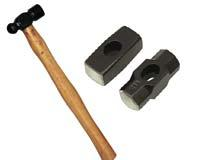hammer: (5, 2, 117, 159)
